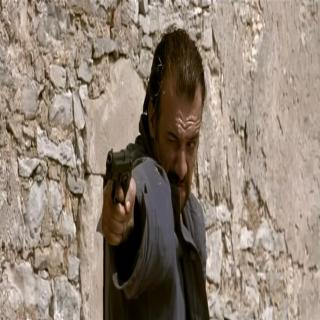gun: (86, 140, 142, 251)
